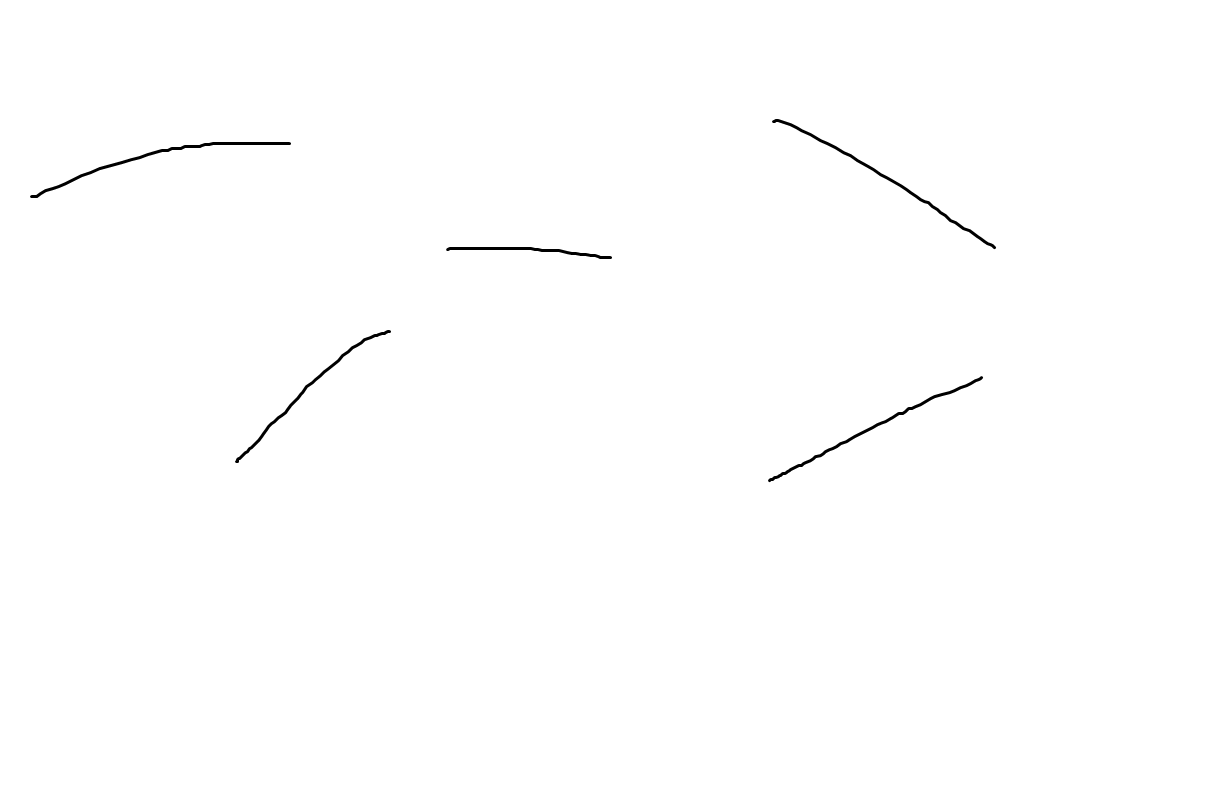tube: (763, 105, 1010, 260), (750, 360, 1000, 506), (224, 317, 406, 472), (10, 114, 301, 208), (425, 202, 633, 314)
